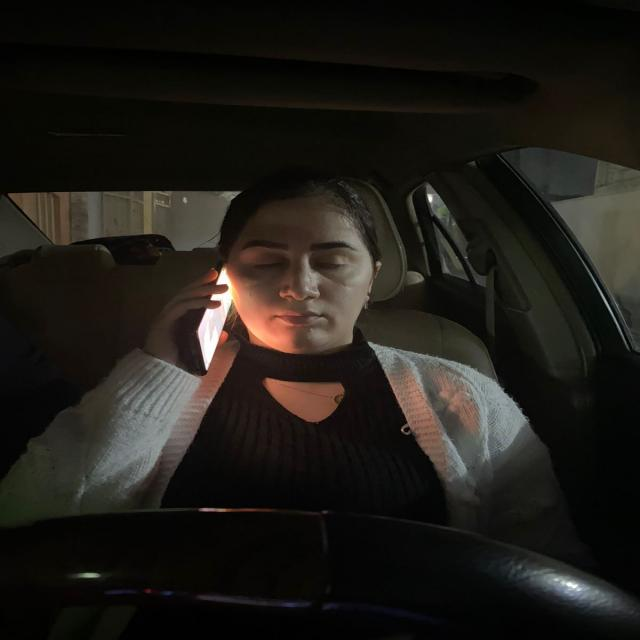mobile: (180, 253, 237, 388)
person: (224, 174, 388, 358)
